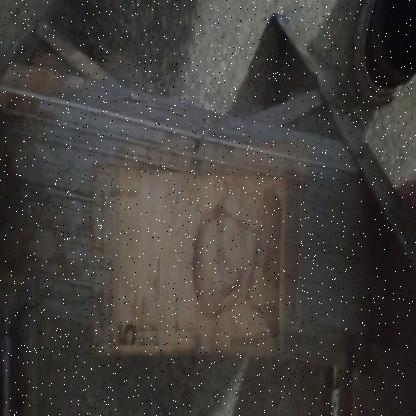five-front-vef: (91, 164, 302, 355)
